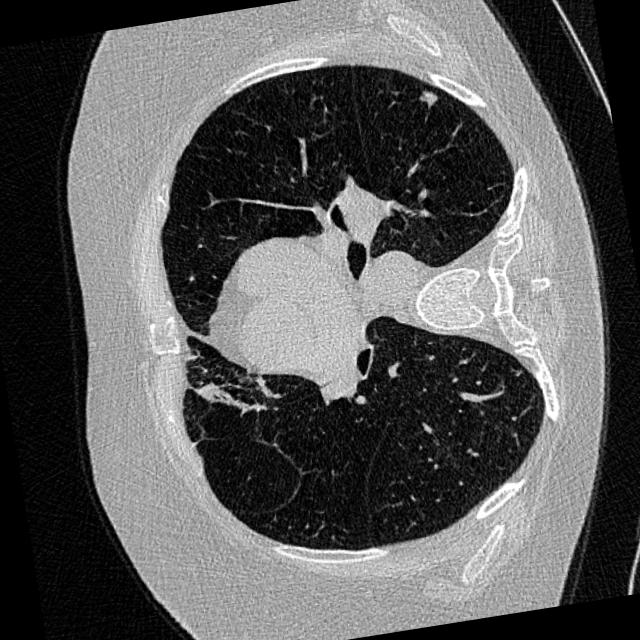nodule: (409, 80, 446, 116)
